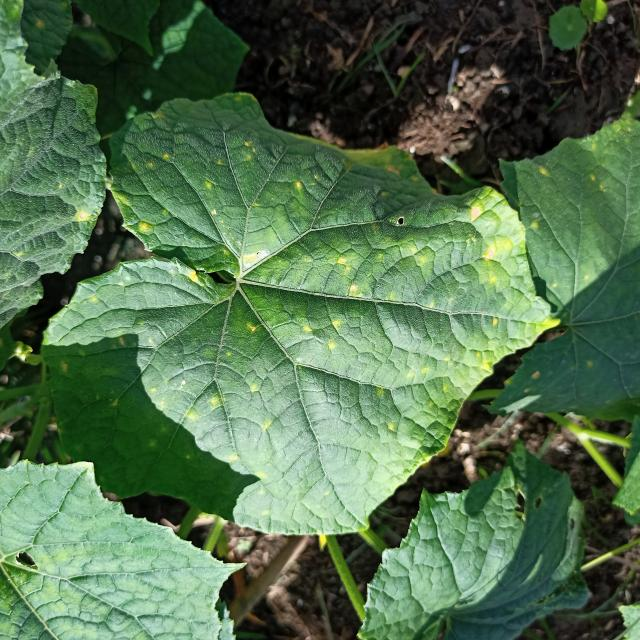disease_cucumber: (383, 178, 534, 410), (134, 356, 278, 470), (125, 150, 216, 236), (301, 245, 365, 357)
